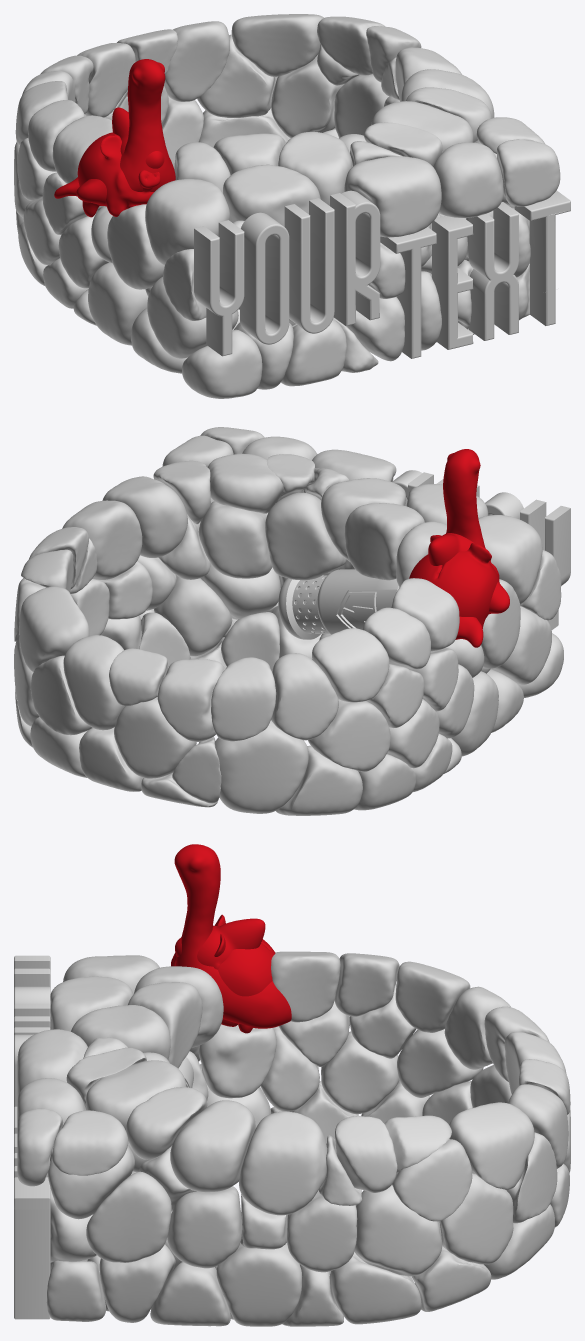
3 renders of one model, top to bottom at view 1: azimuth 30°, elevation 25°; view 2: azimuth 150°, elevation 25°; view 3: azimuth 270°, elevation 25°, orthographic. The views are drawn at different scales.
Visible parts, largest first — view 1: Text.002, Retopo_nessie_smoothed, sphere-retopo 1.001, sha; view 2: Text.002, Retopo_nessie_smoothed, sphere-retopo 1.001, sha; view 3: Text.002, Retopo_nessie_smoothed, sphere-retopo 1.001, sha.
Boxes of the visible parts, <box> form: Text.002: <box>14,14,570,398</box>; Retopo_nessie_smoothed: <box>54,59,175,206</box>; sphere-retopo 1.001: <box>77,132,160,217</box>; sha: <box>112,107,164,209</box>; Text.002: <box>14,427,570,815</box>; Retopo_nessie_smoothed: <box>443,449,509,647</box>; sphere-retopo 1.001: <box>409,535,499,628</box>; sha: <box>428,533,474,565</box>; Text.002: <box>14,951,570,1326</box>; Retopo_nessie_smoothed: <box>174,844,291,1028</box>; sphere-retopo 1.001: <box>171,914,275,1033</box>; sha: <box>175,918,265,1026</box>.
Size of the model in its own units: 7.49 by 5.27 by 8.2.
